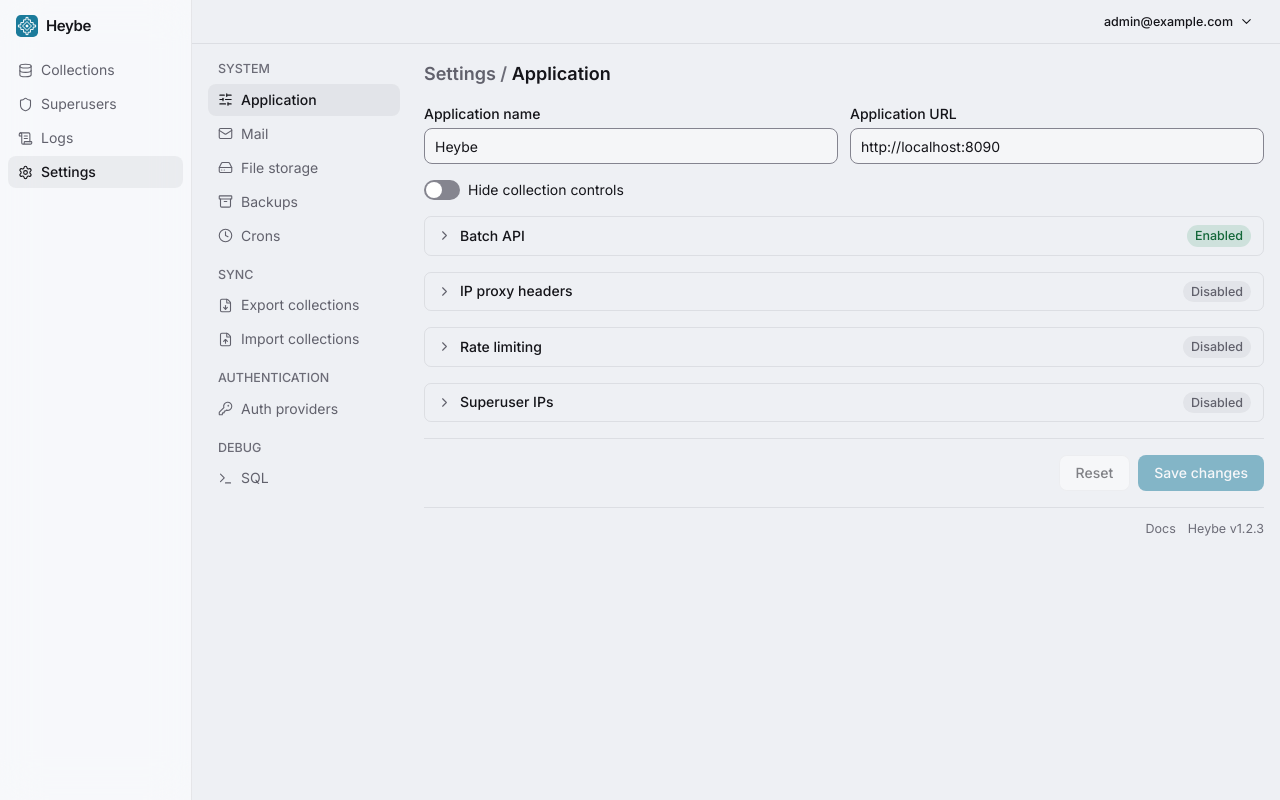
it: an error no input claims shows in the form error list
This screenshot has width=1280, height=800.
Type "x" into the field labelled "Application name" at (631, 146), box [424,128,838,164]
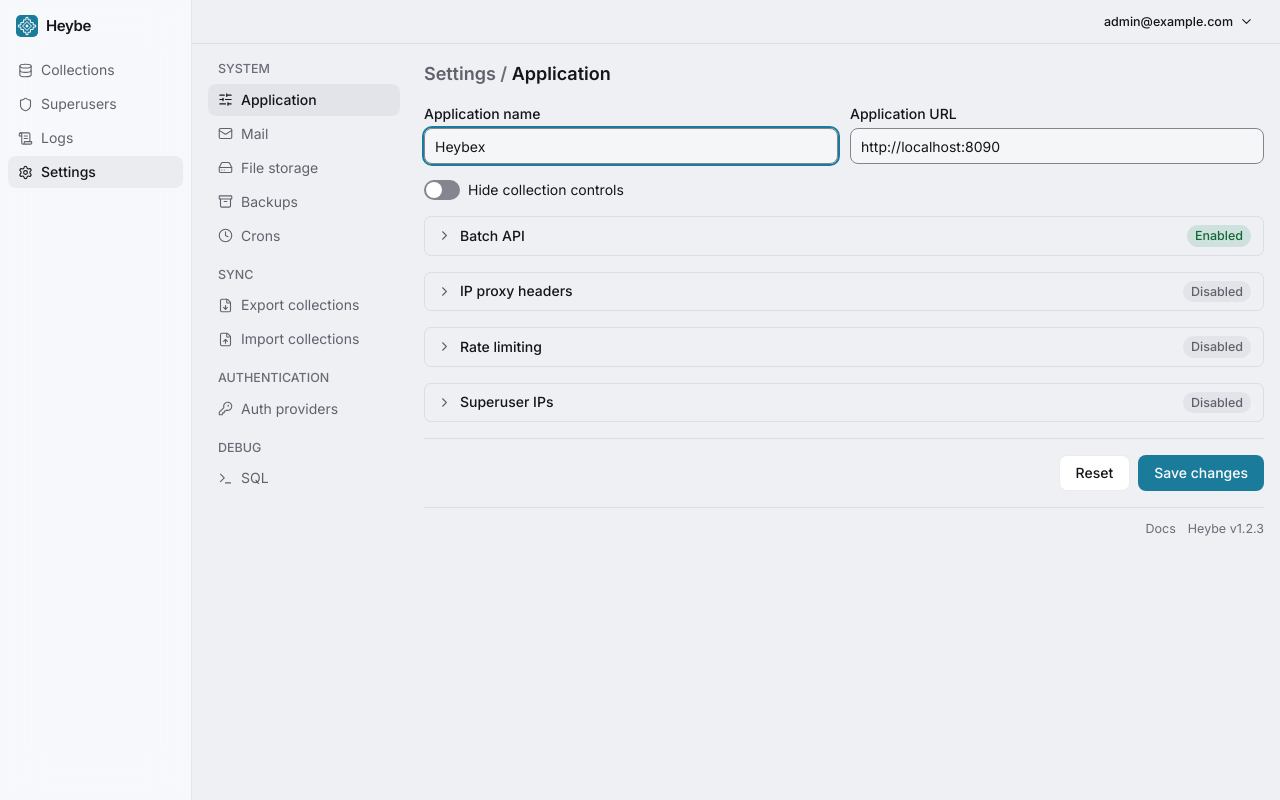
Click the button "Save changes" at (1201, 473), box [1138,455,1264,491]
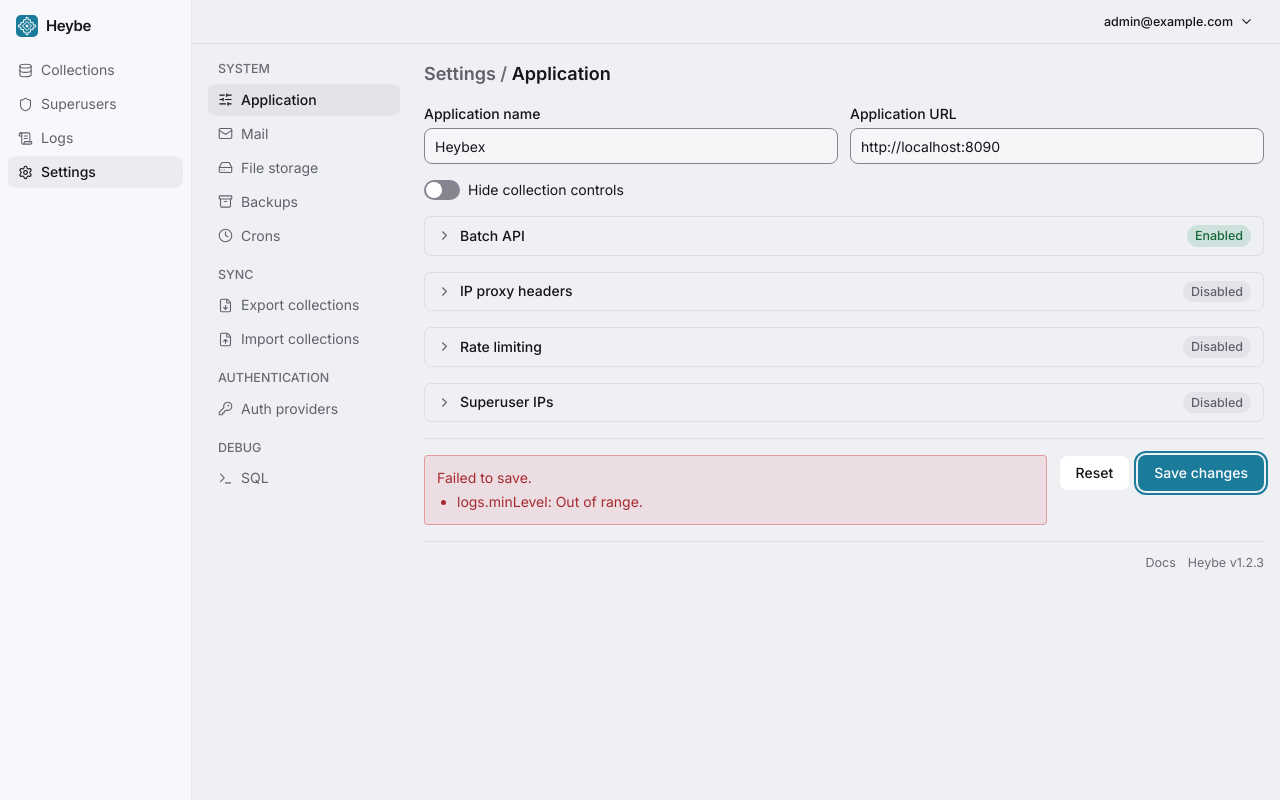
Check: the list item "logs.minLevel: Out of range." is shown, box [457,493,643,510]
